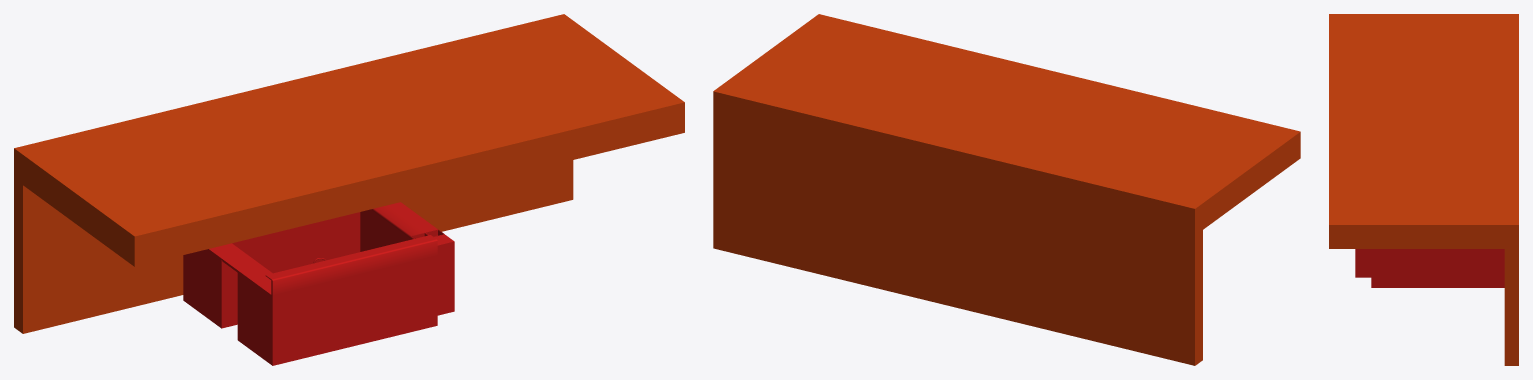
The model's file is Bar Final.fbx.
The picture shows the model from 3 angles, left to right: view 1: azimuth 30°, elevation 25°; view 2: azimuth 150°, elevation 25°; view 3: azimuth 270°, elevation 25°; orthographic projection. The views are drawn at different scales.
Parts seen in each view (by area): view 1: Bar Roof, Bar Front, Bar Back; view 2: Bar Roof; view 3: Bar Roof, Bar Front.
Boxes of the visible parts, x1,y1,x2,y2 form: Bar Roof: (14, 14, 684, 333); Bar Front: (183, 202, 454, 365); Bar Back: (232, 212, 360, 273); Bar Roof: (713, 14, 1300, 365); Bar Roof: (1329, 14, 1518, 365); Bar Front: (1355, 249, 1504, 287).
Bounding box in the file's own units: 927 × 289 × 352.
